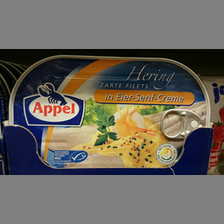fish: (8, 56, 210, 169)
